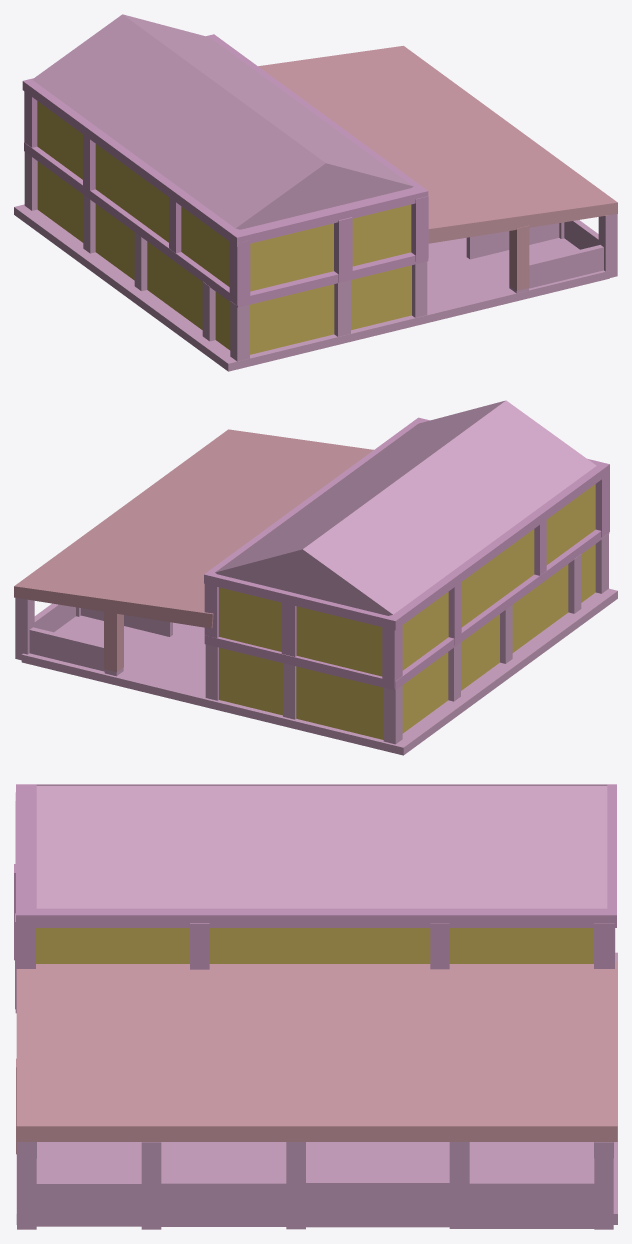
Rendered from Building6.fbx.
3 renders of one model, top to bottom at view 1: azimuth 30°, elevation 25°; view 2: azimuth 150°, elevation 25°; view 3: azimuth 270°, elevation 25°, orthographic. The views are drawn at different scales.
Visible parts, largest first — view 1: Cube.004, Plane; view 2: Cube.004, Plane; view 3: Cube.004, Plane.
Boxes of the visible parts, left/top/right/bottom form: Cube.004: left=22, top=14, right=617, bottom=361; Plane: left=14, top=204, right=609, bottom=371; Cube.004: left=14, top=400, right=609, bottom=744; Plane: left=21, top=588, right=617, bottom=755; Cube.004: left=14, top=784, right=617, bottom=1229; Plane: left=16, top=952, right=617, bottom=1224.
Size of the model in its own units: 1312 by 574 by 1256.
